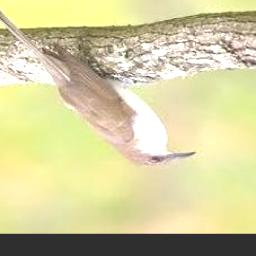Cuckoo: (0, 0, 196, 169)
